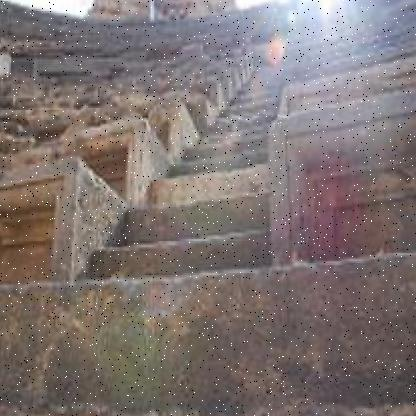stair_up: (96, 106, 263, 268)
